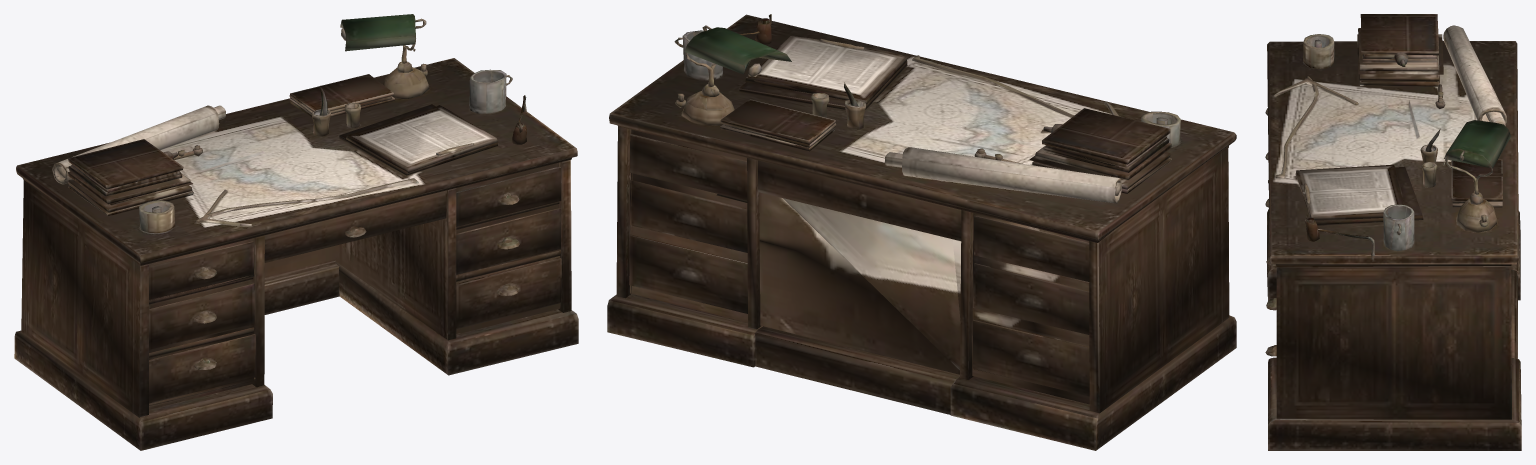
The model's file is harbour_desk.glb.
The picture shows the model from 3 angles, left to right: view 1: azimuth 30°, elevation 25°; view 2: azimuth 150°, elevation 25°; view 3: azimuth 270°, elevation 25°; orthographic projection. The views are drawn at different scales.
Bounding box in the file's own units: 1.8 × 1.06 × 0.9083.
1 material, 1 textured.
